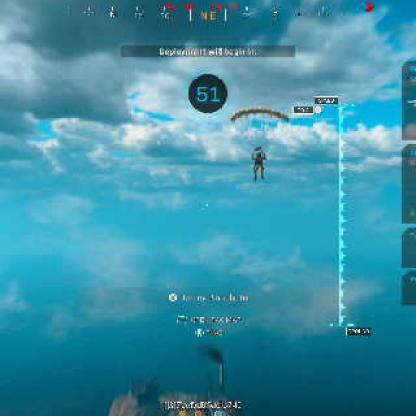enemy: (251, 150, 265, 180)
